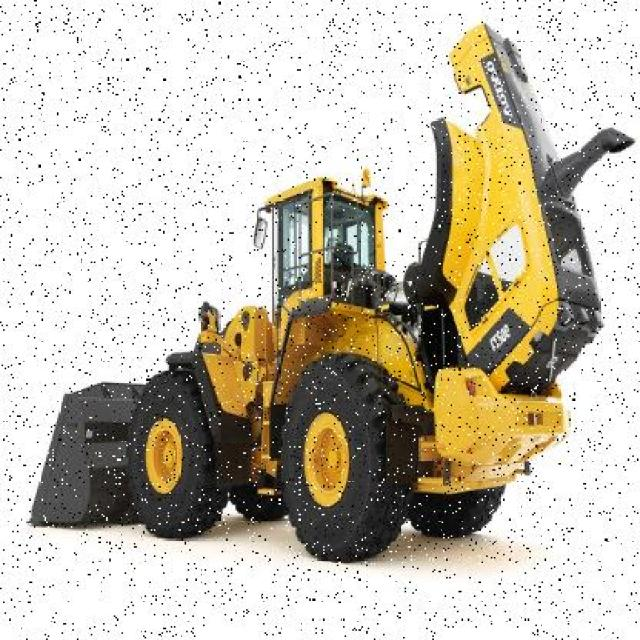buldozerpayloadergrader: (18, 0, 627, 557)
